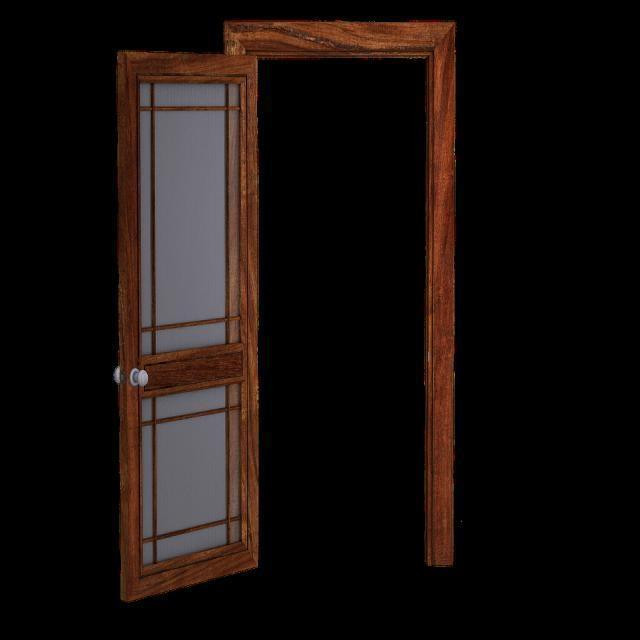door: (116, 50, 259, 601)
